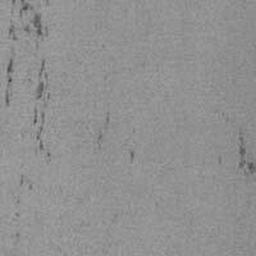Inclusion: (6, 0, 49, 52), (237, 131, 256, 183), (32, 108, 51, 159), (27, 59, 50, 101), (4, 58, 13, 109), (96, 113, 109, 142), (18, 174, 32, 191), (14, 200, 20, 218), (128, 151, 134, 165), (216, 156, 221, 165)
